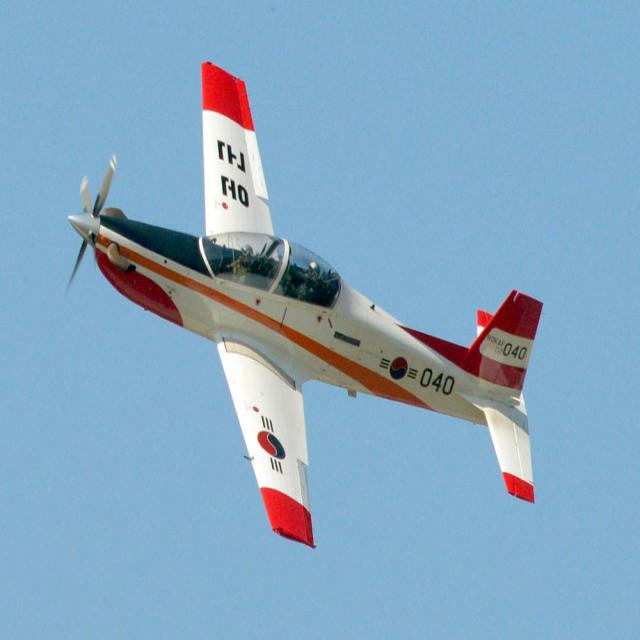KT-1: (68, 62, 539, 547)
